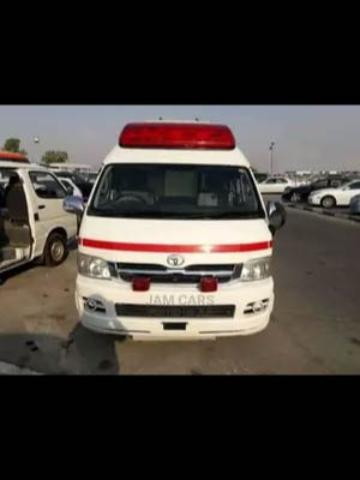van: (63, 113, 289, 349)
